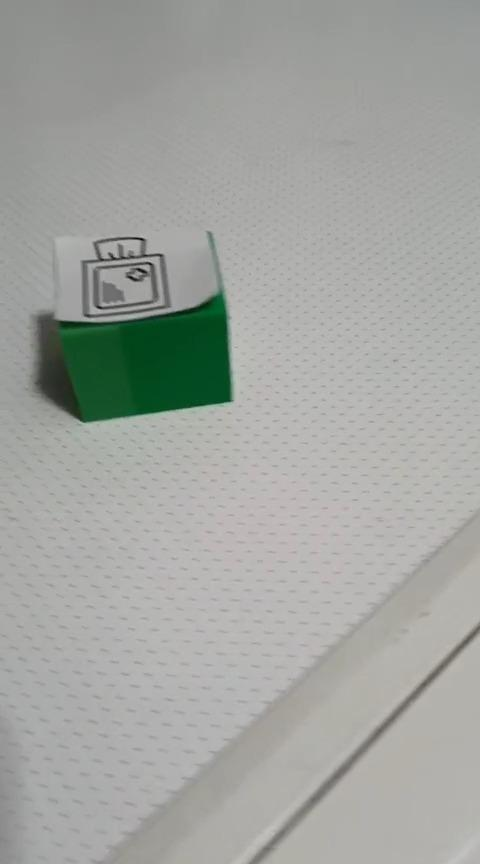Gauze: (50, 224, 234, 423)
